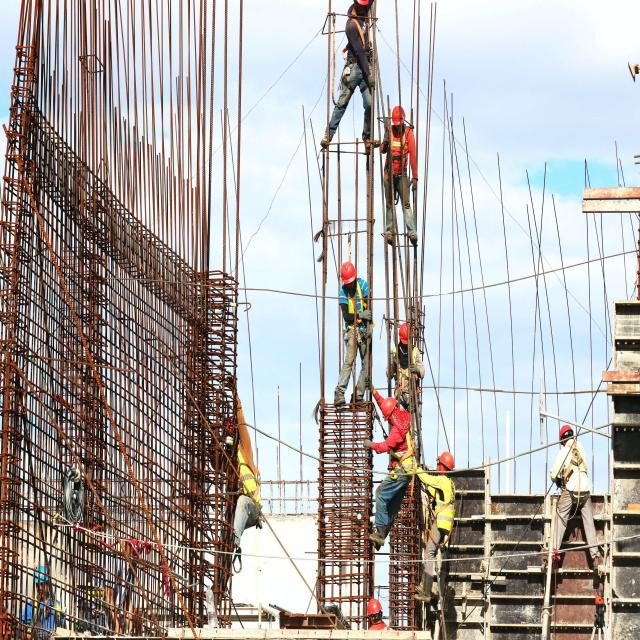helmet: (392, 319, 420, 362), (355, 592, 387, 628), (389, 100, 413, 143), (335, 256, 362, 294), (30, 562, 57, 598), (554, 416, 581, 450), (437, 445, 462, 478)
shoes: (347, 383, 376, 424), (405, 578, 439, 610), (581, 550, 614, 581), (538, 538, 566, 573), (310, 129, 338, 159), (382, 216, 400, 247), (360, 132, 388, 148), (366, 526, 386, 548), (334, 384, 350, 409), (404, 232, 424, 251)
vest: (340, 9, 380, 77), (425, 467, 459, 542), (238, 448, 265, 518), (384, 423, 420, 471), (395, 354, 421, 416), (383, 119, 407, 186), (27, 594, 58, 640), (346, 290, 369, 328)
